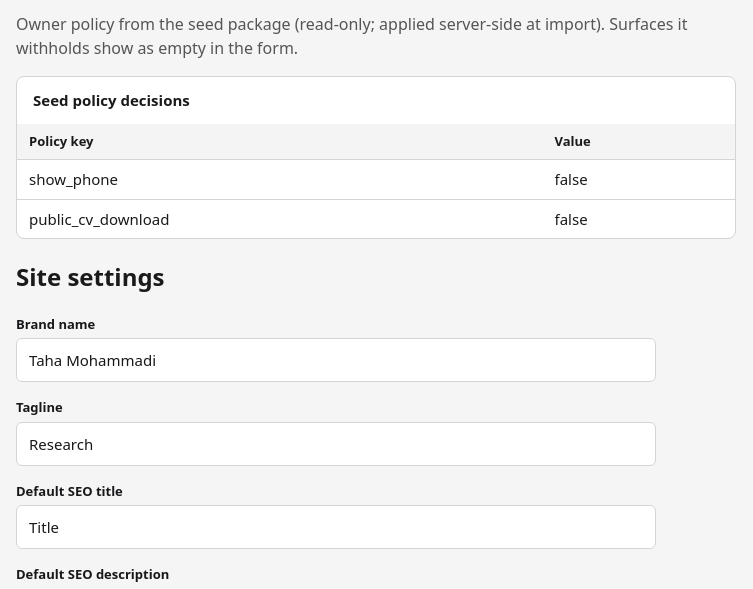
it: SettingsPage (ADMIN-150) › shows a conflict state with reload when settings changed elsewhere
The width and height of the screenshot is (753, 589).
(page scrolled)
Replace the text in the field labelled "Brand name" with "New name": (336, 360) left=16, top=338, right=656, bottom=382
(page scrolled)
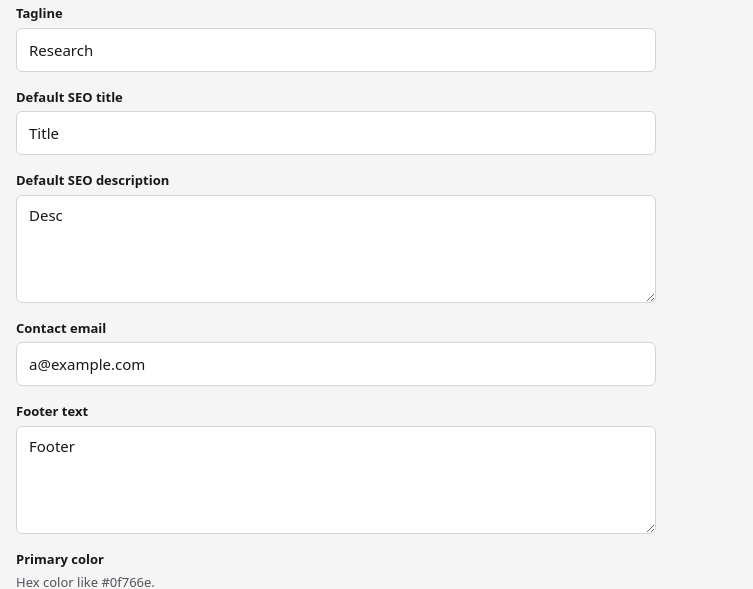
Submit the form labelled "Brand name"
(page scrolled)
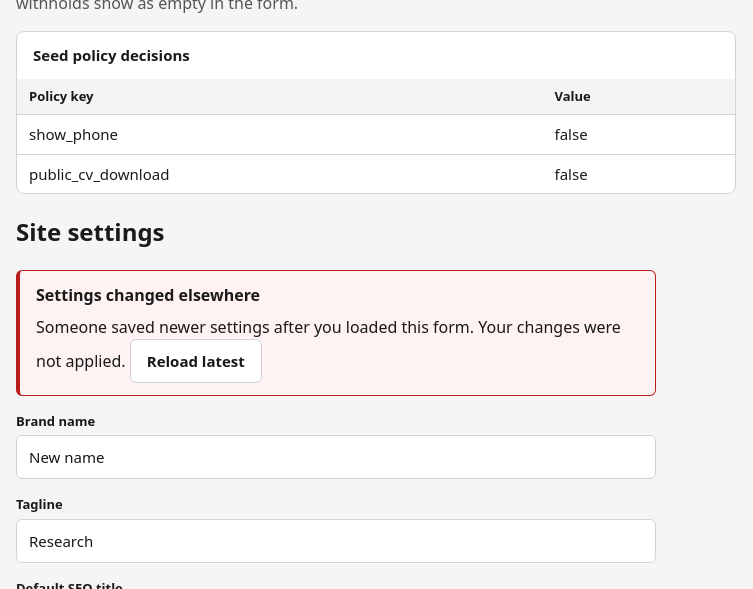
Expected: the button "Reload latest" is shown, left=130, top=339, right=262, bottom=383
